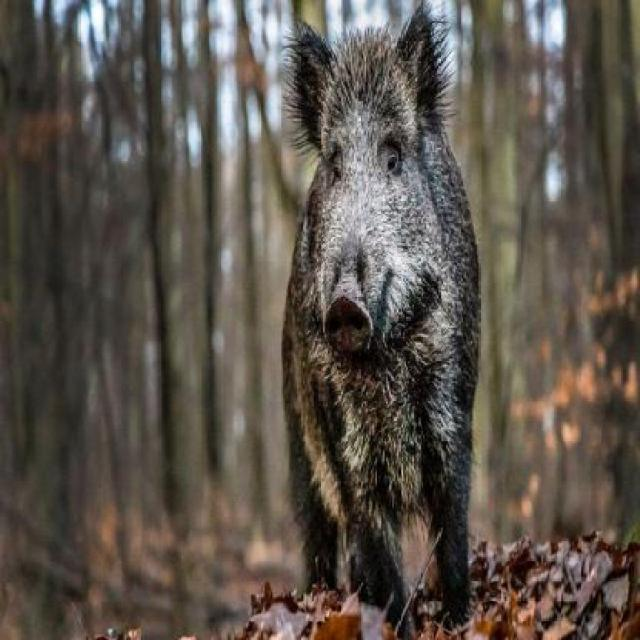wildboar: (280, 4, 481, 640)
